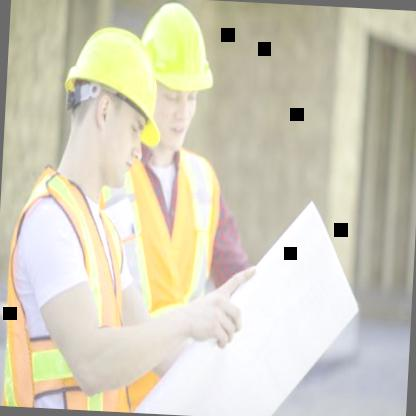helmet: (62, 3, 174, 186), (116, 0, 215, 170)
